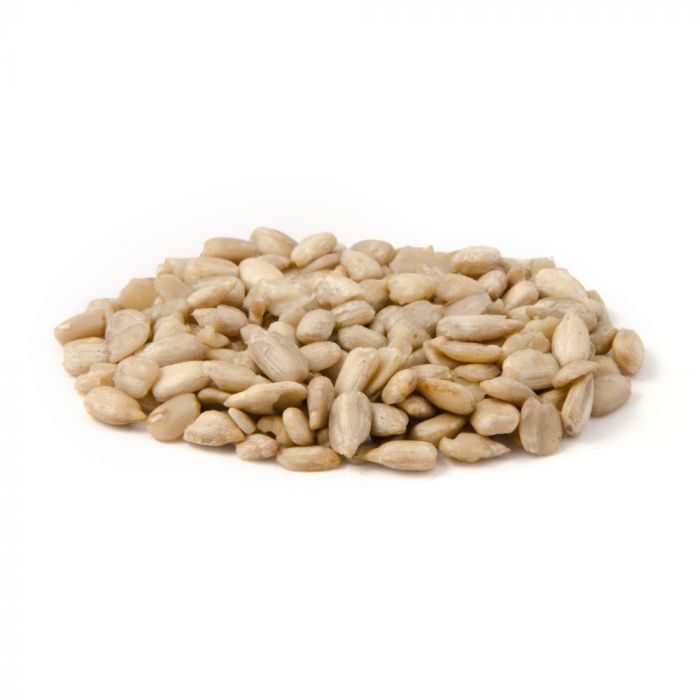seed: (43, 217, 655, 481)
